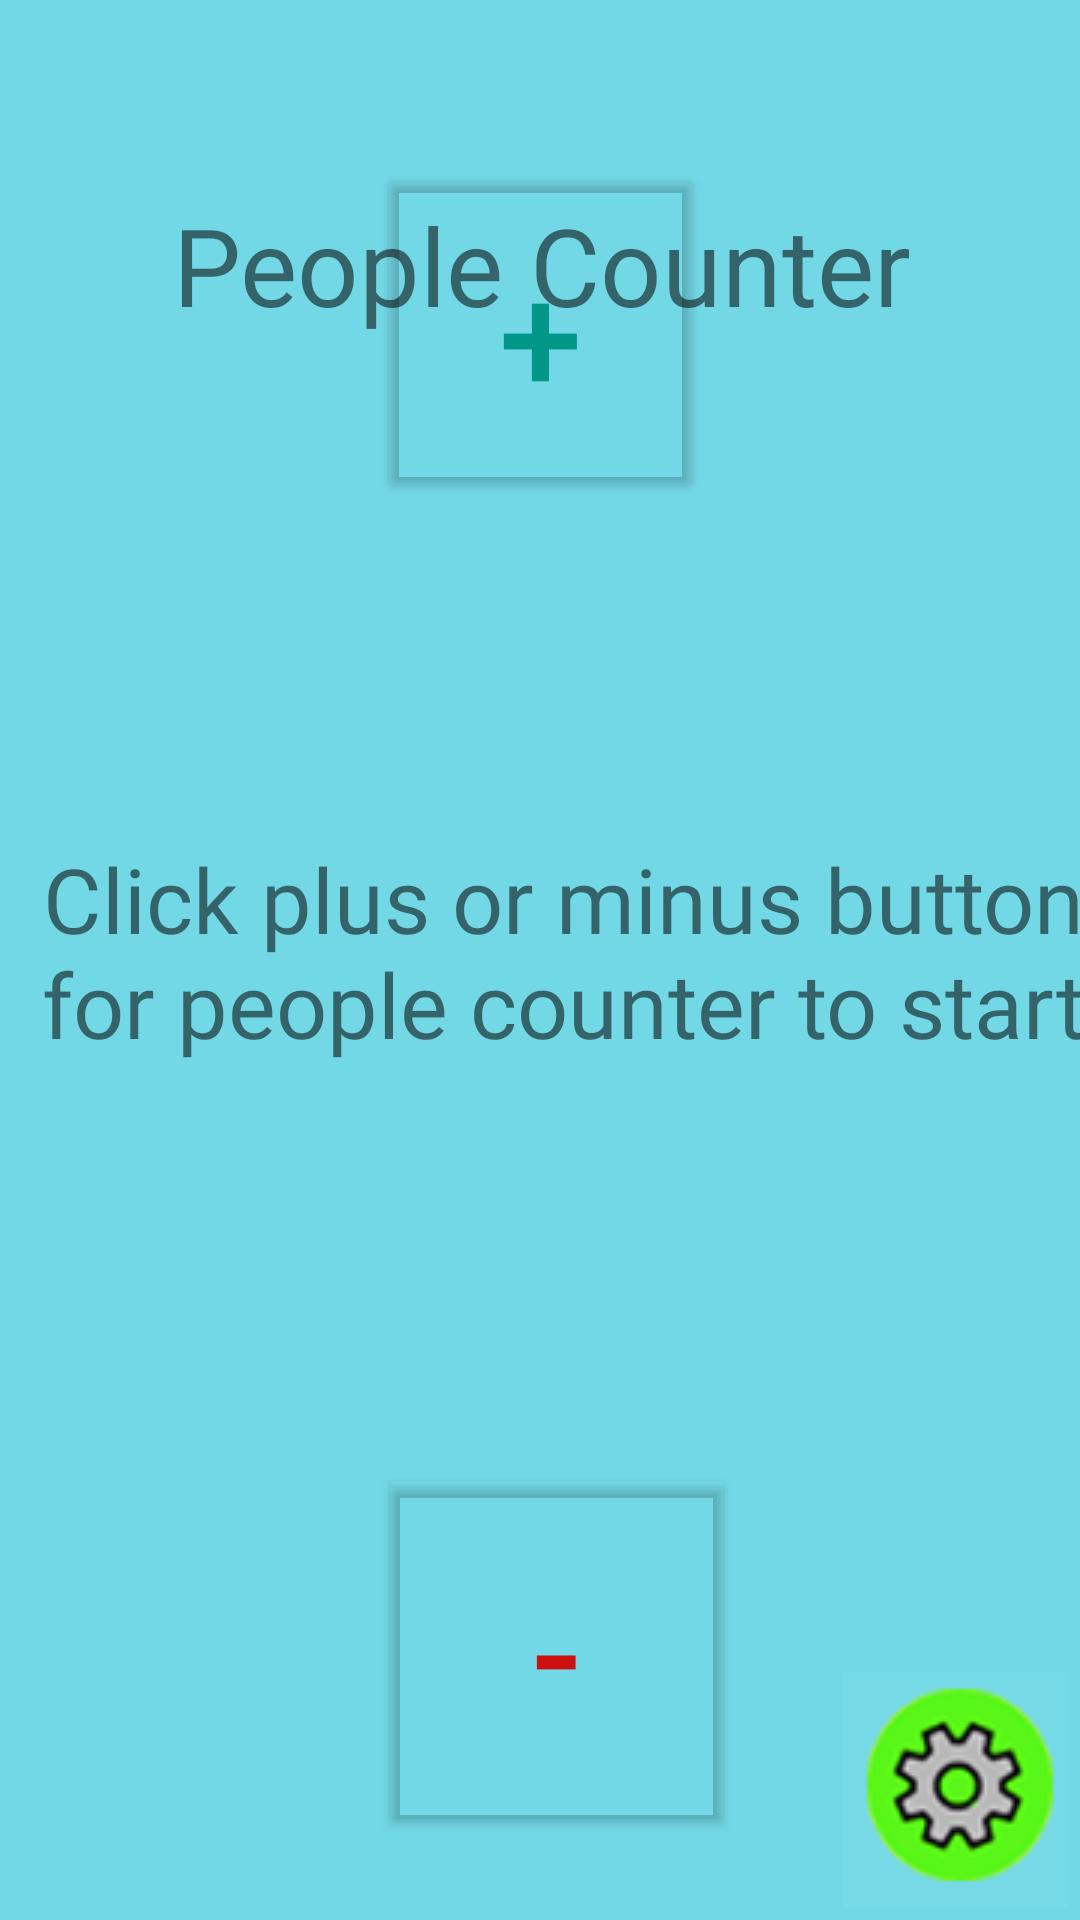

Screen size 1080px x 1920px. Icon name, then its box in pixels as (x1, y1, x2, y2):
settings: (866, 1688, 1054, 1882)
